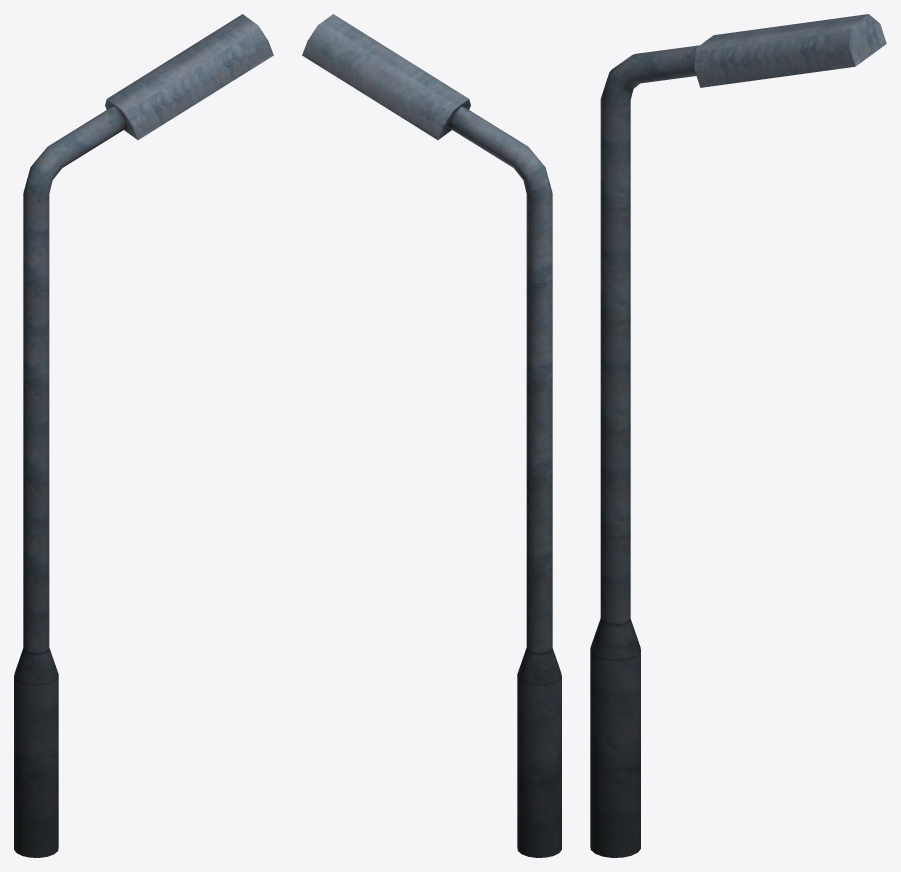
Rendered from Laterne.gltf.
3 renders of one model, left to right at view 1: azimuth 30°, elevation 25°; view 2: azimuth 150°, elevation 25°; view 3: azimuth 330°, elevation 25°, orthographic. The views are drawn at different scales.
Visible parts, largest first — view 1: Cylinder01; view 2: Cylinder01; view 3: Cylinder01.
Boxes of the visible parts, x1,y1,x2,y2 form: Cylinder01: (14,14,273,857); Cylinder01: (302,14,561,857); Cylinder01: (590,14,886,857).
Size of the model in its own units: 2.85 by 8.7 by 0.5568.
1 material, 1 textured.
